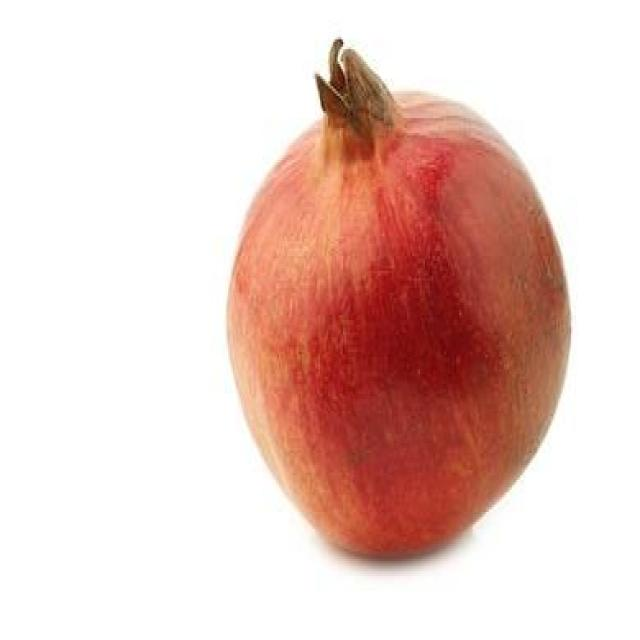Pomegranate: (223, 32, 574, 562)
